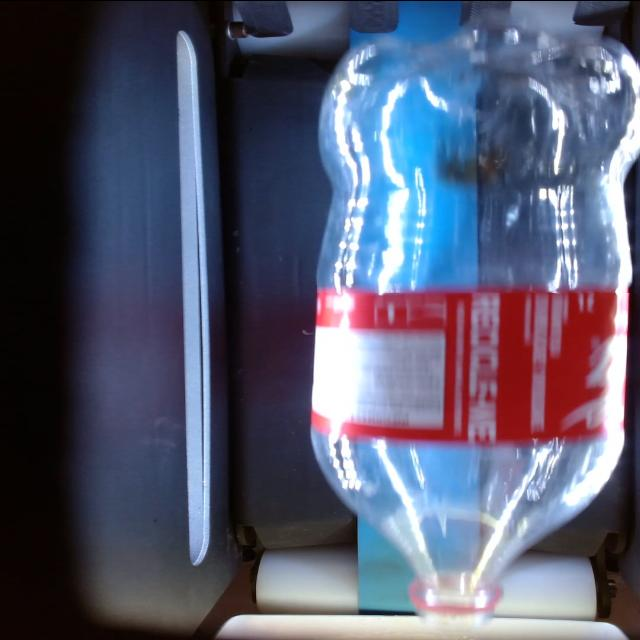bottom: (318, 22, 637, 292)
label: (313, 288, 617, 443)
neck: (311, 430, 622, 617)
